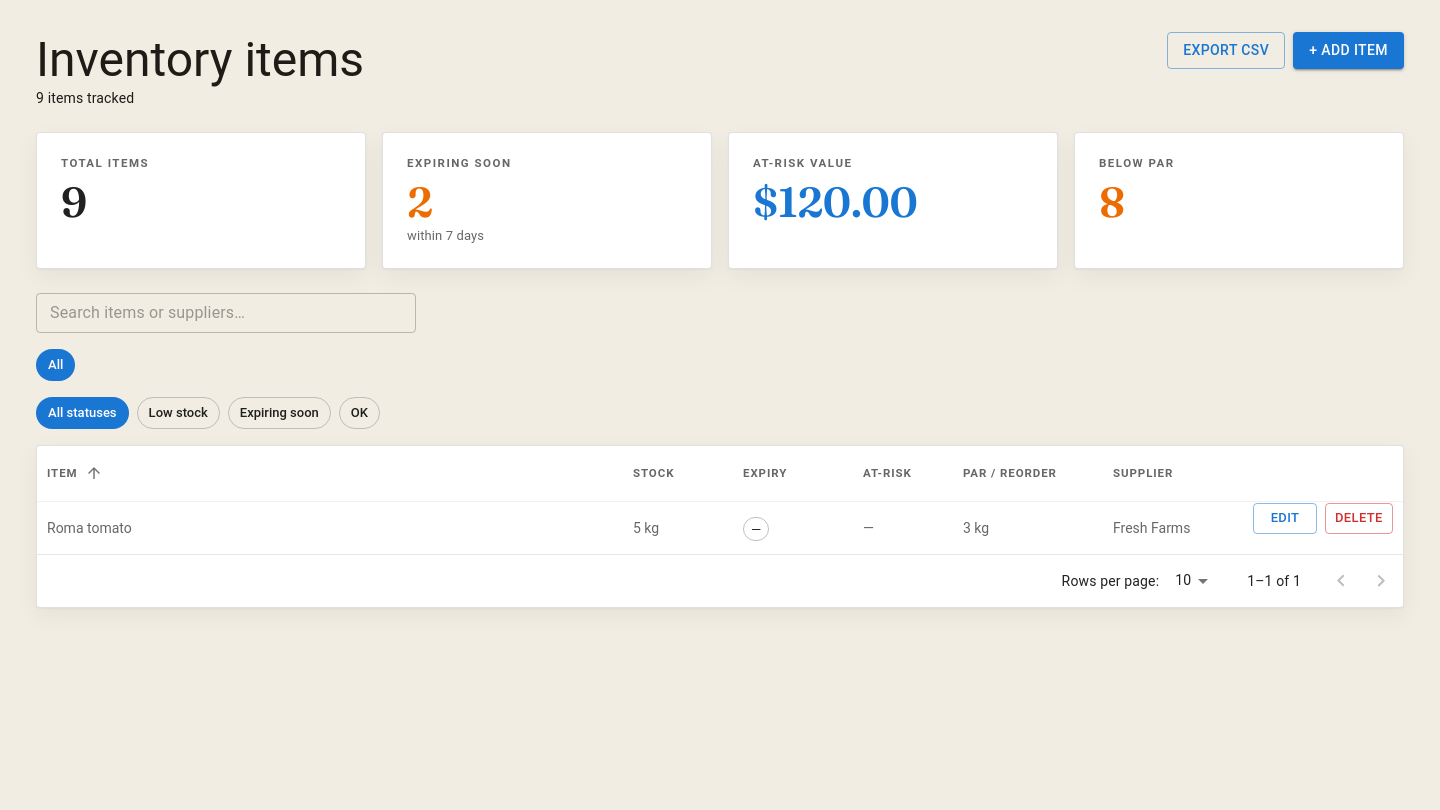
InventoryPage — US-INV-3: add / edit / delete item › keeps the item and shows the dishes on a 409 ITEM_IN_USE
Step 1. Click the button "Delete" → (1359, 518), box [1325,503,1393,534]
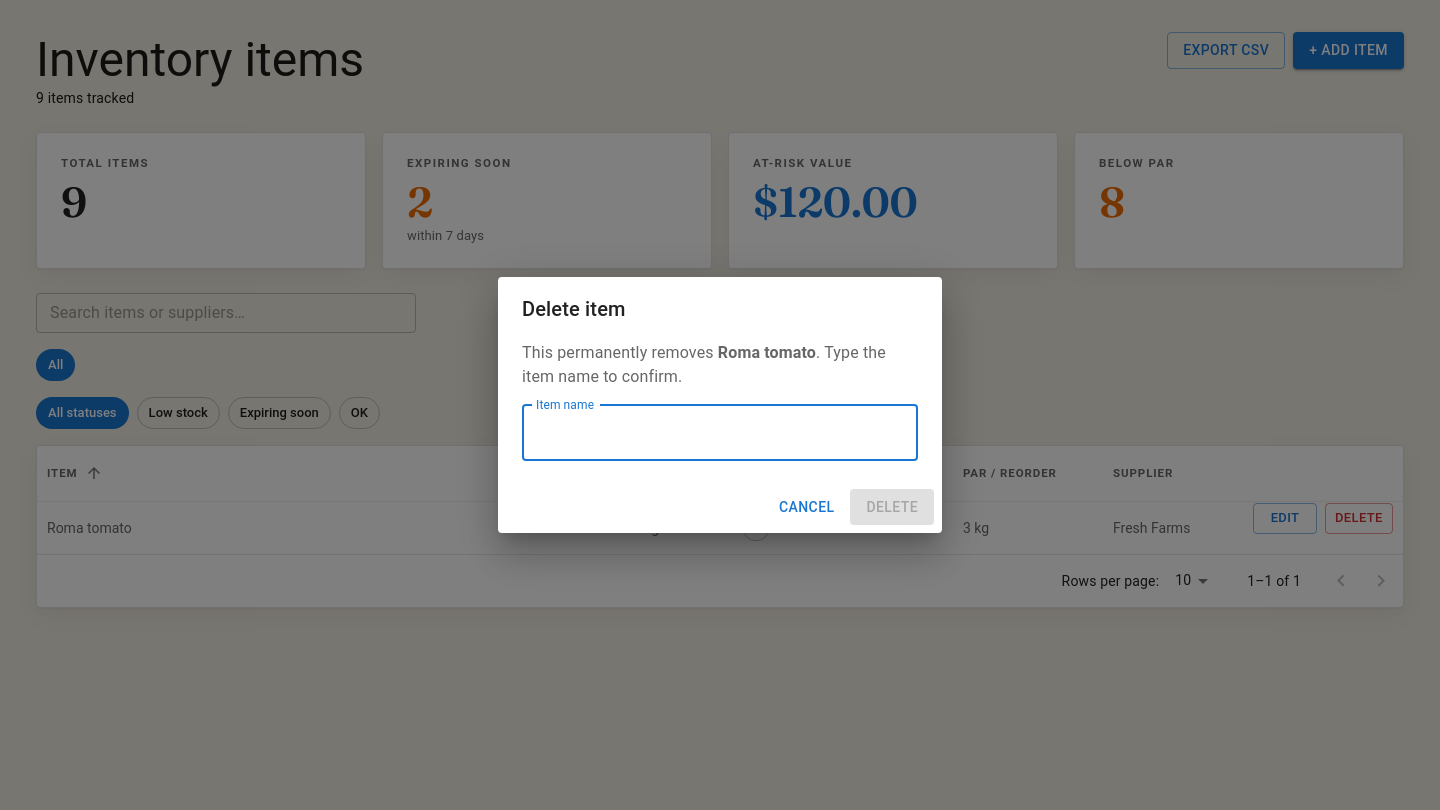
Step 2. Type "Roma tomato" into the field labelled "Item name" → (720, 433), box [522,405,918,461]
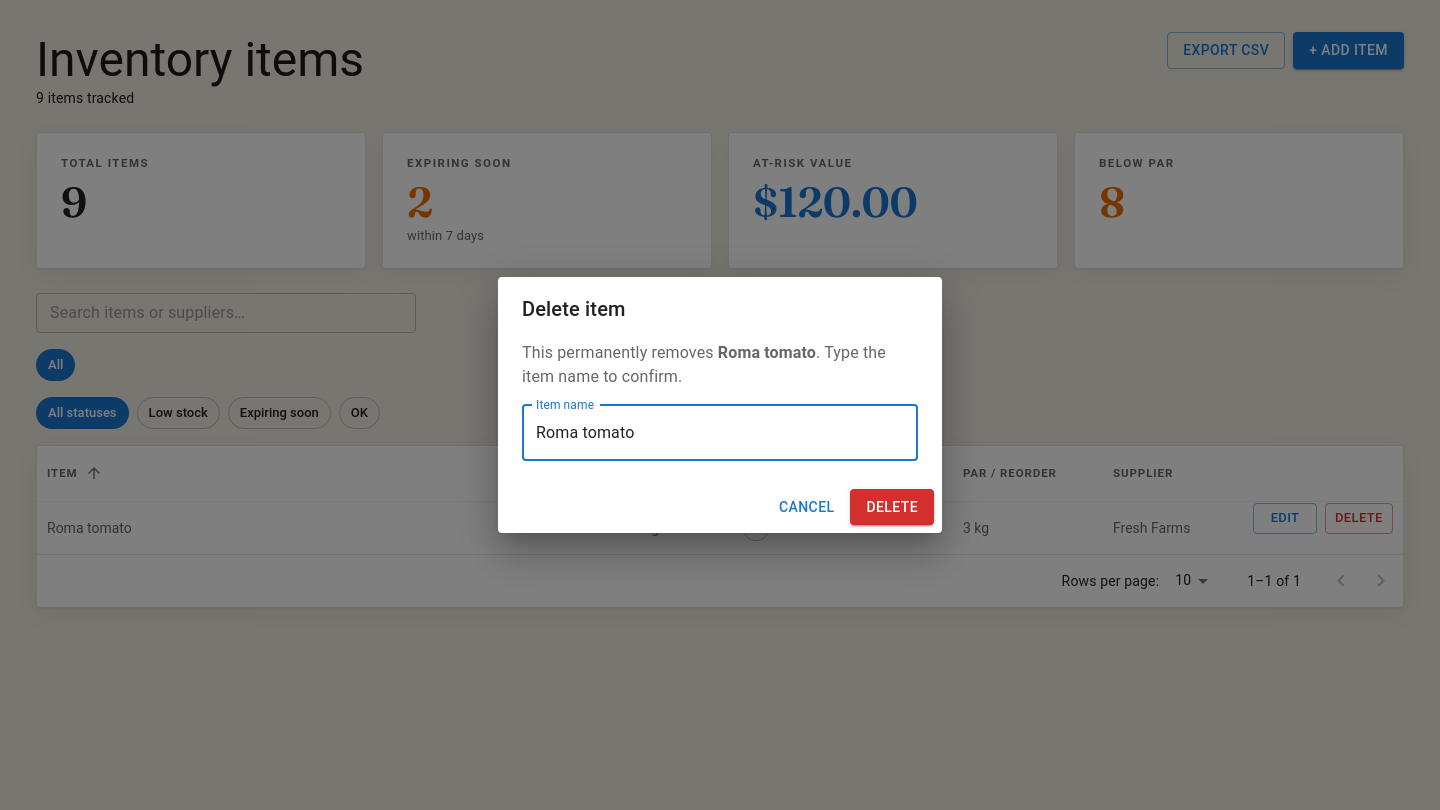
Step 3. Click the button "Delete" → (892, 507), box [850,489,934,525]
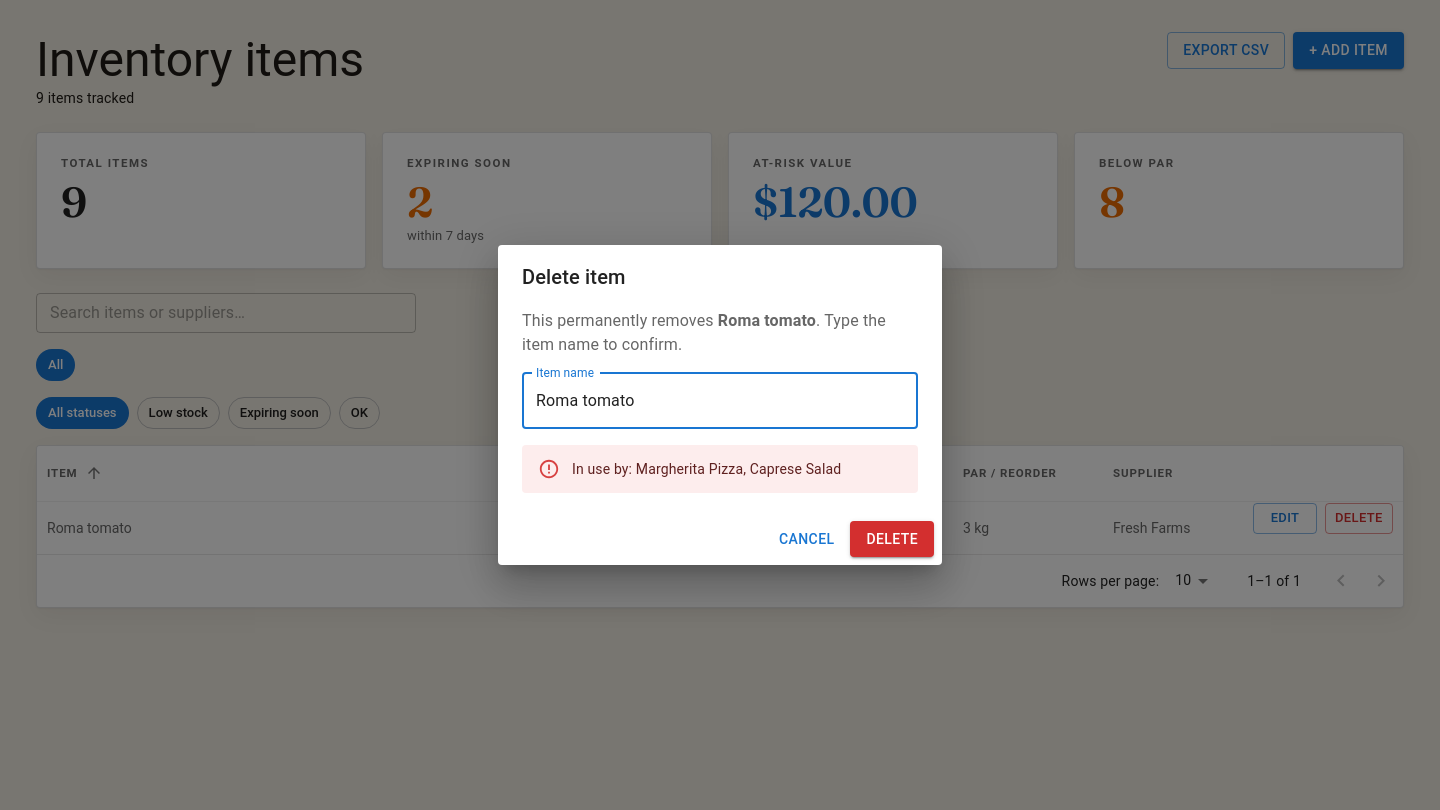
Now the heading "Delete item" is shown, box [522,265,626,289]
Now the text "In use by: Margherita Pizza, Caprese Salad" is shown, box [572,461,841,477]
